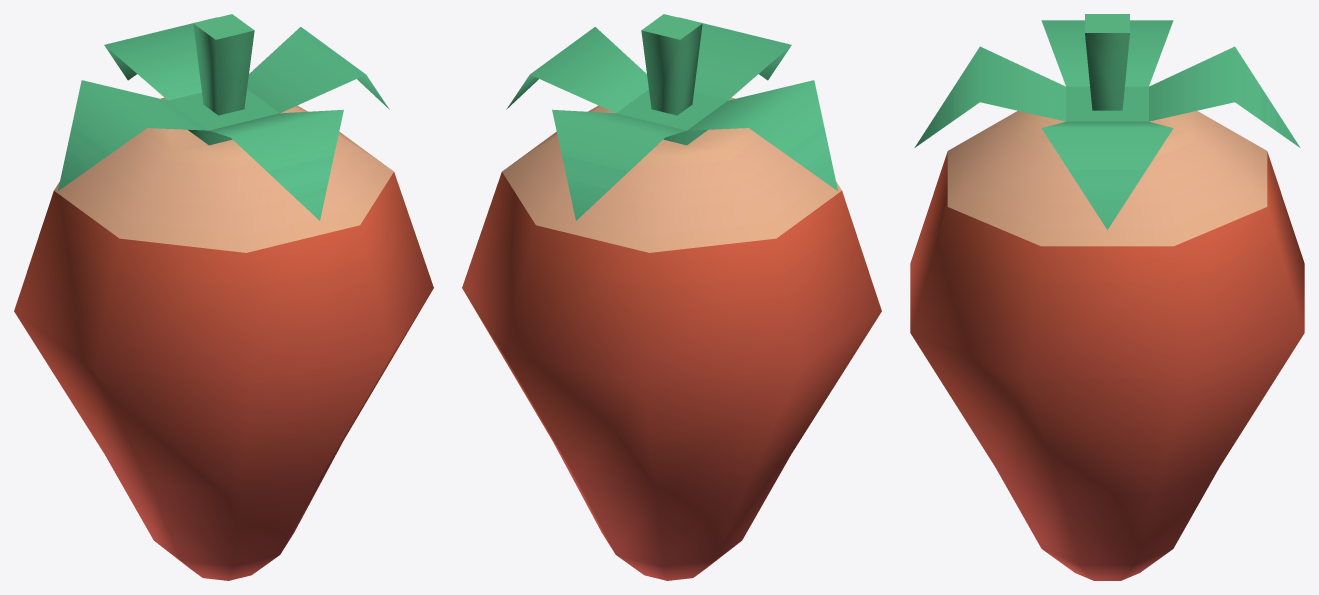
File: strawberry.glb
The picture shows the model from 3 angles, left to right: view 1: azimuth 30°, elevation 25°; view 2: azimuth 150°, elevation 25°; view 3: azimuth 270°, elevation 25°; orthographic projection.
Parts seen in each view (by area): view 1: strawberry; view 2: strawberry; view 3: strawberry.
Part boxes in pixels (left/top/right/bottom): strawberry: left=14, top=14, right=433, bottom=580; strawberry: left=462, top=14, right=881, bottom=580; strawberry: left=910, top=14, right=1304, bottom=580.
Bounding box in the file's own units: 0.1197 × 0.182 × 0.1197.
Materials: 1 (1 with a texture image).
